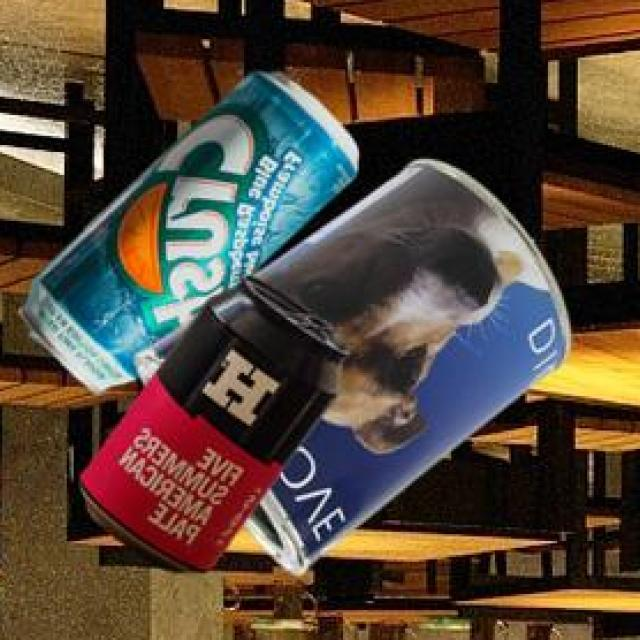logam: (132, 162, 567, 579), (17, 75, 356, 397), (77, 280, 346, 577)
